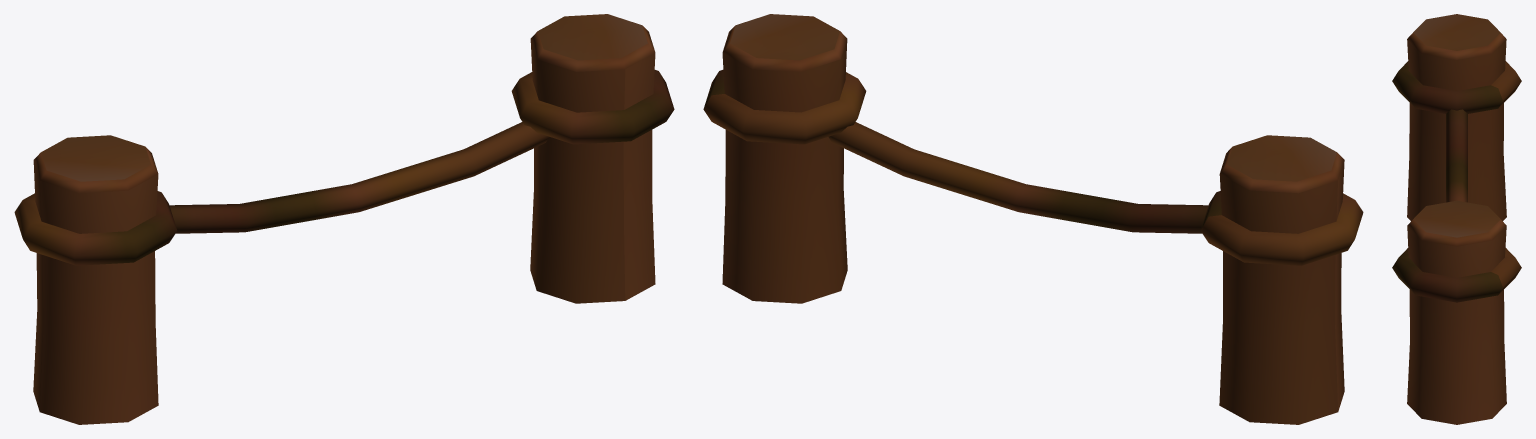
The model's file is fence_002.fbx.
3 renders of one model, left to right at view 1: azimuth 30°, elevation 25°; view 2: azimuth 150°, elevation 25°; view 3: azimuth 270°, elevation 25°, orthographic. The views are drawn at different scales.
Parts seen in each view (by area): view 1: fence_002; view 2: fence_002; view 3: fence_002.
Part boxes in pixels (x1,y1,x2,y2): fence_002: (14, 14, 674, 424); fence_002: (703, 14, 1363, 424); fence_002: (1392, 14, 1521, 424).
Size of the model in its own units: 261 by 92.92 by 59.18.
